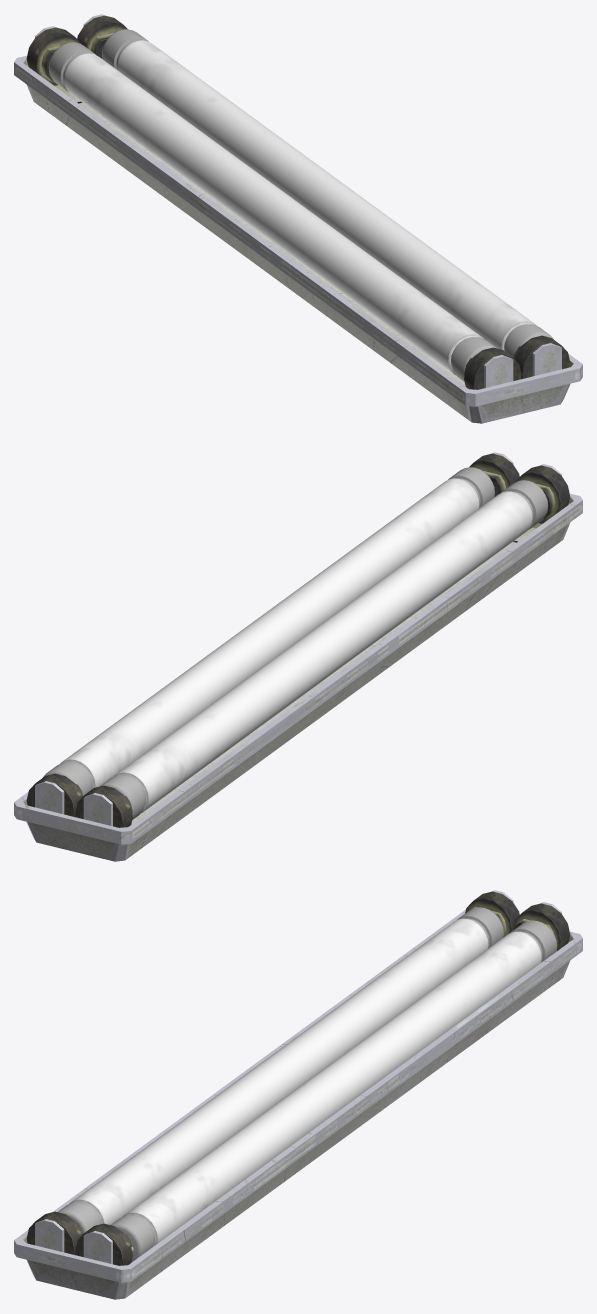
The model's file is SM_LigthCeiling.gltf.
3 renders of one model, top to bottom at view 1: azimuth 30°, elevation 25°; view 2: azimuth 150°, elevation 25°; view 3: azimuth 330°, elevation 25°, orthographic.
Visible parts, largest first — view 1: SM_LigthCeiling; view 2: SM_LigthCeiling; view 3: SM_LigthCeiling.
Part boxes in pixels (x1,y1,x2,y2): SM_LigthCeiling: (14, 14, 582, 423); SM_LigthCeiling: (14, 452, 582, 861); SM_LigthCeiling: (14, 890, 582, 1299).
Size of the model in its own units: 0.1621 by 0.0855 by 1.1.
2 materials, 2 textured.
